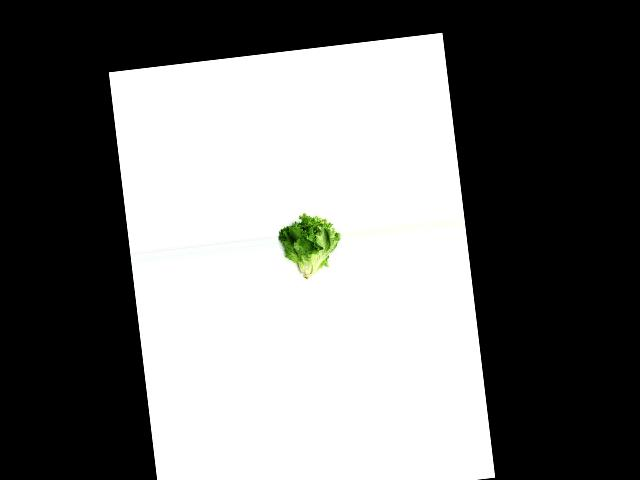lettuce: (275, 211, 346, 282)
